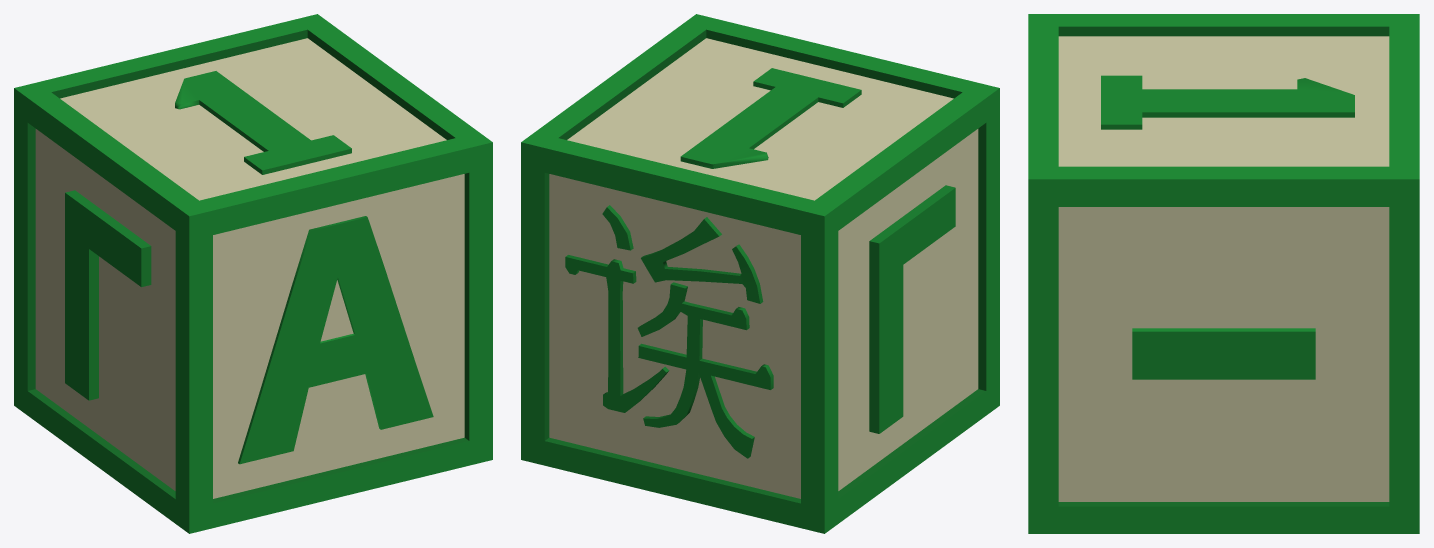
The model's file is human-toys-alphabet-block_v3.glb.
3 views of the same model, side by side, from view 1: azimuth 30°, elevation 25°; view 2: azimuth 150°, elevation 25°; view 3: azimuth 270°, elevation 25° (orthographic). The views are drawn at different scales.
Parts seen in each view (by area): view 1: Alphabet Block_v3; view 2: Alphabet Block_v3; view 3: Alphabet Block_v3.
Part boxes in pixels (box(x1,y1,x2,y2)): Alphabet Block_v3: box(14, 14, 492, 533); Alphabet Block_v3: box(521, 14, 999, 533); Alphabet Block_v3: box(1028, 14, 1419, 533).
Size of the model in its own units: 0.05 by 0.0497 by 0.0497.
